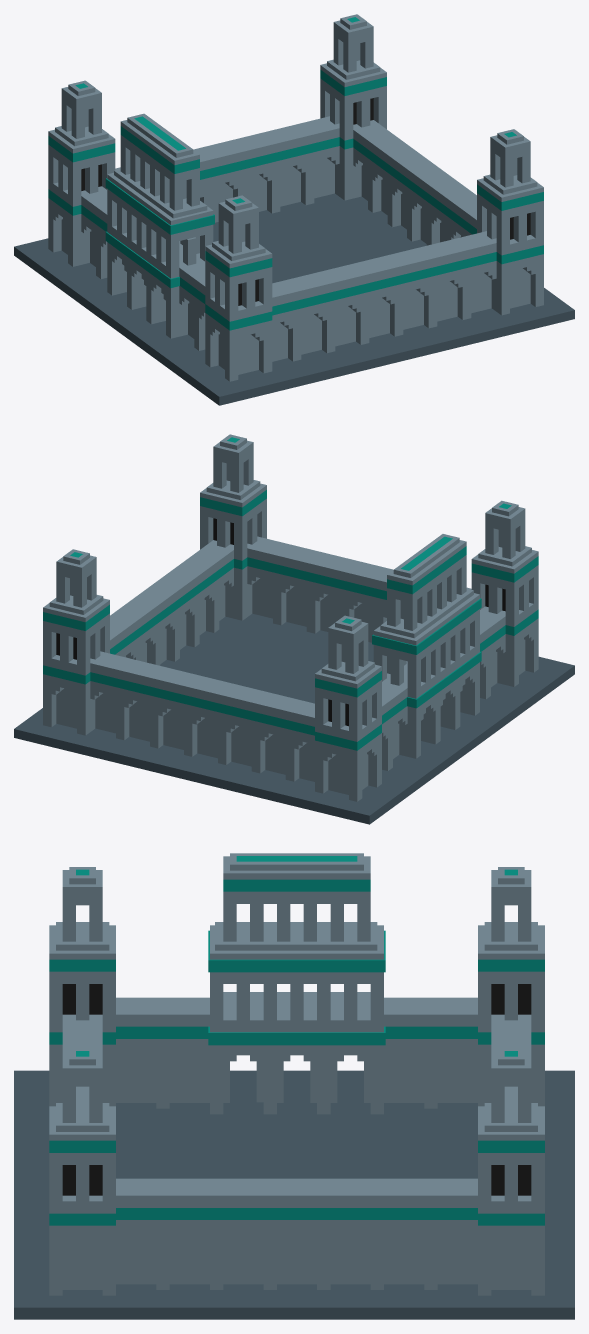
File: scene_emvSFY2Ag6.glb
The picture shows the model from 3 angles, top to bottom: view 1: azimuth 30°, elevation 25°; view 2: azimuth 150°, elevation 25°; view 3: azimuth 270°, elevation 25°; orthographic projection. The views are drawn at different scales.
Visible parts, largest first — view 1: group1759508002, group61099129, group25771445, group439534883, group893479836, group107630194, group316226169, group607075928, group1334222259, group850211741, group1145732538, group84447309 (+29 smaller); view 2: group1759508002, group61099129, group439534883, group25771445, group893479836, group649434943, group316226169, group107630194, group607075928, group84447309, group1145732538, group850211741 (+43 smaller); view 3: group1759508002, group439534883, group893479836, group25771445, group107630194, group316226169, group1334222259, group850211741, group607075928, group2048020762, group1145732538, group1805099795 (+32 smaller).
Boxes of the visible parts, left/top/right/bottom form: group1759508002: left=14, top=193, right=574, bottom=405; group61099129: left=272, top=232, right=496, bottom=361; group25771445: left=205, top=195, right=272, bottom=381; group439534883: left=353, top=123, right=476, bottom=245; group893479836: left=477, top=129, right=543, bottom=315; group107630194: left=81, top=190, right=126, bottom=293; group316226169: left=179, top=261, right=205, bottom=350; group607075928: left=105, top=178, right=214, bottom=234; group1334222259: left=107, top=223, right=204, bottom=278; group850211741: left=114, top=169, right=207, bottom=218; group1145732538: left=107, top=189, right=213, bottom=242; group84447309: left=223, top=132, right=280, bottom=159; group1759508002: left=14, top=613, right=574, bottom=824; group61099129: left=247, top=537, right=471, bottom=642; group439534883: left=110, top=541, right=233, bottom=665; group25771445: left=471, top=500, right=538, bottom=686; group893479836: left=200, top=434, right=266, bottom=620; group649434943: left=251, top=692, right=308, bottom=781; group316226169: left=460, top=606, right=505, bottom=713; group107630194: left=382, top=678, right=407, bottom=770; group607075928: left=372, top=598, right=481, bottom=654; group84447309: left=150, top=667, right=206, bottom=696; group1145732538: left=373, top=609, right=479, bottom=663; group850211741: left=380, top=588, right=473, bottom=638; group1759508002: left=14, top=1070, right=574, bottom=1319; group439534883: left=116, top=1178, right=477, bottom=1289; group893479836: left=49, top=1048, right=115, bottom=1295; group25771445: left=49, top=867, right=115, bottom=1106; group107630194: left=384, top=997, right=477, bottom=1108; group316226169: left=116, top=997, right=209, bottom=1108; group1334222259: left=210, top=992, right=383, bottom=1032; group850211741: left=215, top=922, right=377, bottom=950; group607075928: left=208, top=930, right=385, bottom=972; group2048020762: left=208, top=1026, right=385, bottom=1045; group1145732538: left=210, top=972, right=383, bottom=983; group1805099795: left=210, top=925, right=383, bottom=959.
Size of the model in its own units: 3.35 by 1.67 by 3.35.
